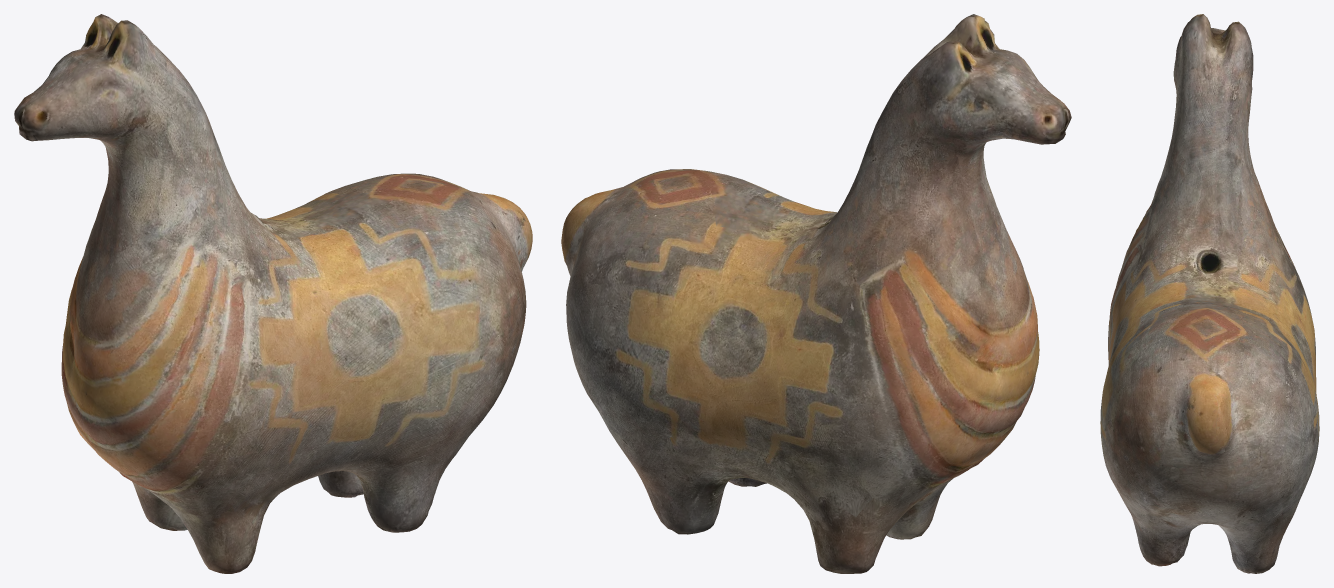
File: sv_llama.glb
3 renders of one model, left to right at view 1: azimuth 30°, elevation 25°; view 2: azimuth 150°, elevation 25°; view 3: azimuth 270°, elevation 25°, orthographic. The views are drawn at different scales.
Parts seen in each view (by area): view 1: sv_llama; view 2: sv_llama; view 3: sv_llama.
Boxes of the visible parts, bbox=[...] form: sv_llama: bbox=[14, 14, 532, 573]; sv_llama: bbox=[561, 14, 1071, 573]; sv_llama: bbox=[1100, 14, 1319, 573].
Bounding box in the file's own units: 0.95 × 0.9974 × 0.4371.
Materials: 1 (1 with a texture image).
